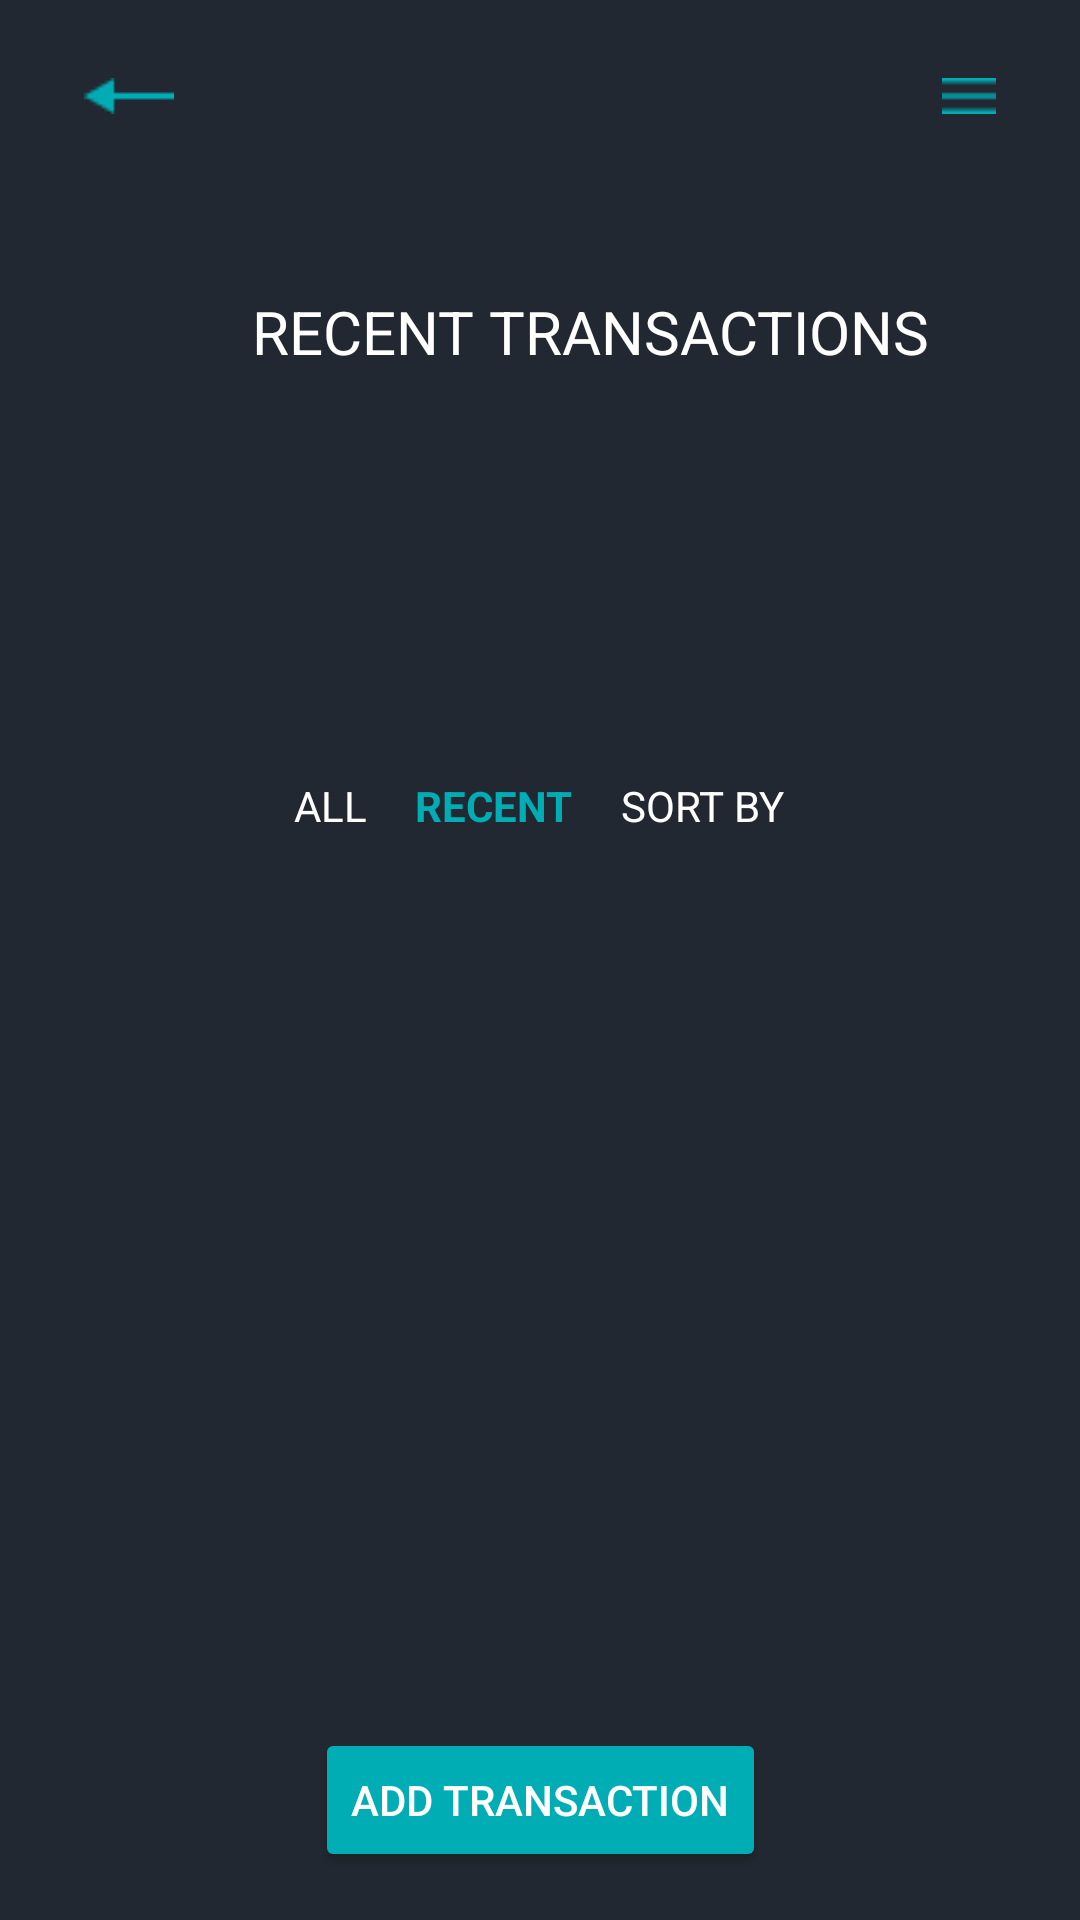

Point at icon controls on the screen. Image size 1080 × 1920, points as [x,y].
arrow: [129,96]
side menu: [969,96]
